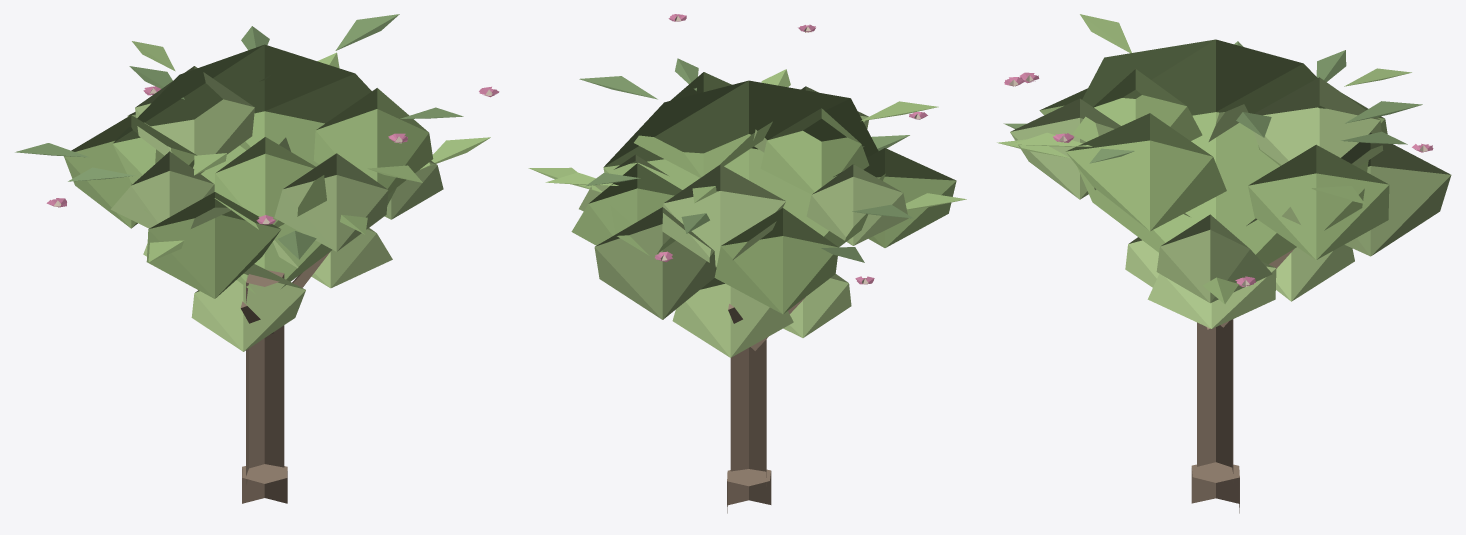
File: shu.xiangzhang__bloom.glb
3 views of the same model, side by side, from view 1: azimuth 30°, elevation 25°; view 2: azimuth 150°, elevation 25°; view 3: azimuth 270°, elevation 25° (orthographic). The views are drawn at different scales.
Visible parts, largest first — view 1: shu.xiangzhang__bloom; view 2: shu.xiangzhang__bloom; view 3: shu.xiangzhang__bloom.
Boxes of the visible parts, box(x1,y1,x2,y2) form: shu.xiangzhang__bloom: box(15, 14, 499, 503); shu.xiangzhang__bloom: box(528, 14, 966, 513); shu.xiangzhang__bloom: box(997, 14, 1451, 513).
Size of the model in its own units: 17.03 by 17.47 by 15.63.
